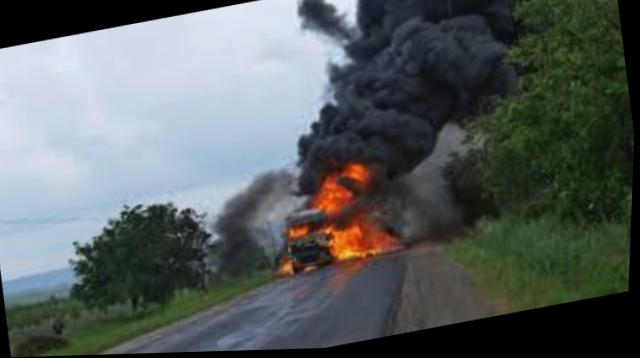fire: (257, 154, 423, 281)
